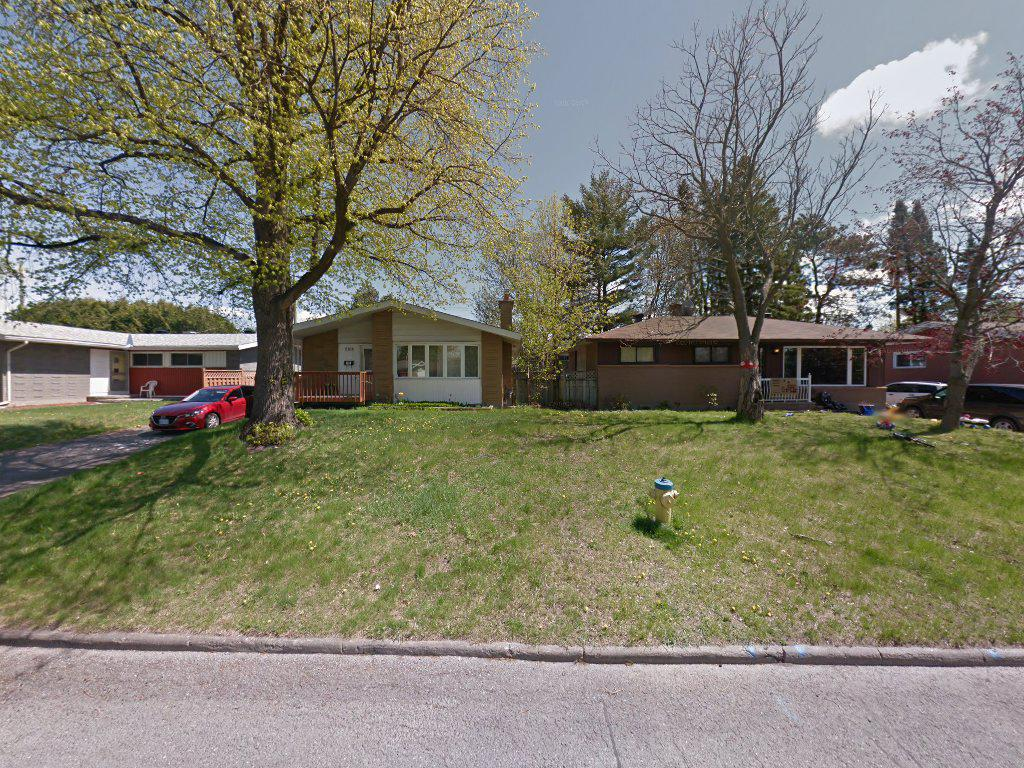trunk: (247, 132, 311, 466), (735, 302, 771, 429), (941, 323, 973, 445)
